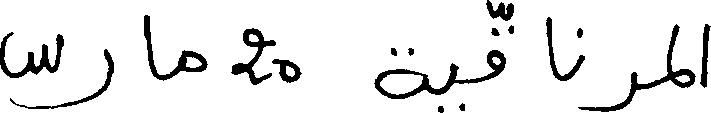X: (0, 27, 61, 112), (63, 34, 111, 111), (376, 43, 425, 103), (232, 23, 269, 89), (585, 67, 636, 112), (668, 19, 693, 92), (487, 0, 506, 84), (181, 45, 203, 76), (702, 19, 710, 92), (281, 55, 298, 87), (577, 23, 583, 112), (145, 10, 152, 78), (548, 12, 554, 80), (447, 58, 456, 95)
